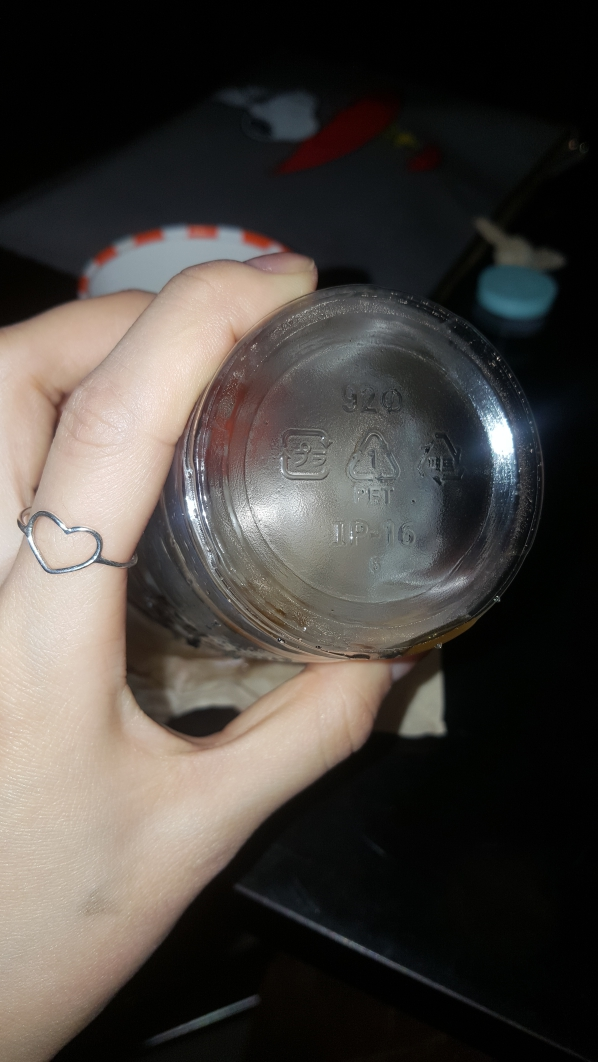recycle: (342, 422, 407, 512)
